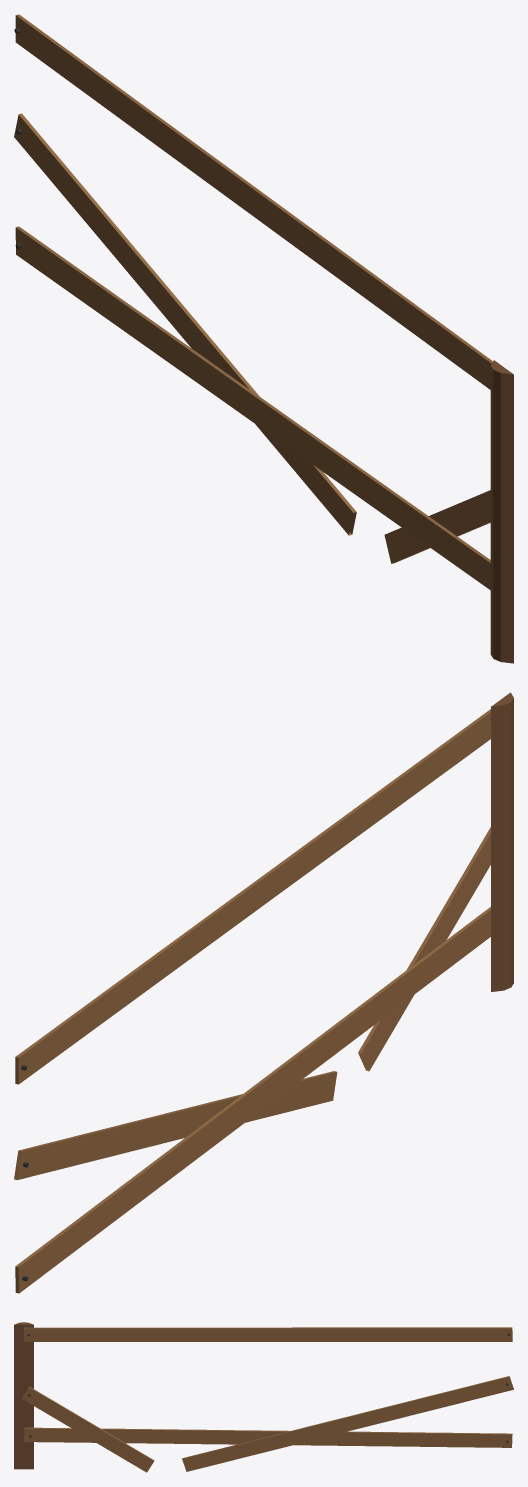
Rendered from fencebroken.glb.
The picture shows the model from 3 angles, top to bottom: view 1: azimuth 30°, elevation 25°; view 2: azimuth 150°, elevation 25°; view 3: azimuth 270°, elevation 25°; orthographic projection. The views are drawn at different scales.
Parts seen in each view (by area): view 1: Cube.011; view 2: Cube.011; view 3: Cube.011.
Part boxes in pixels (x1=…): Cube.011: x1=14, y1=14, x2=513, y2=663; Cube.011: x1=14, y1=692, x2=513, y2=1293; Cube.011: x1=14, y1=1322, x2=513, y2=1472.
Size of what is drawn, in the model's own units: 0.1442 by 1.6 by 5.01.
